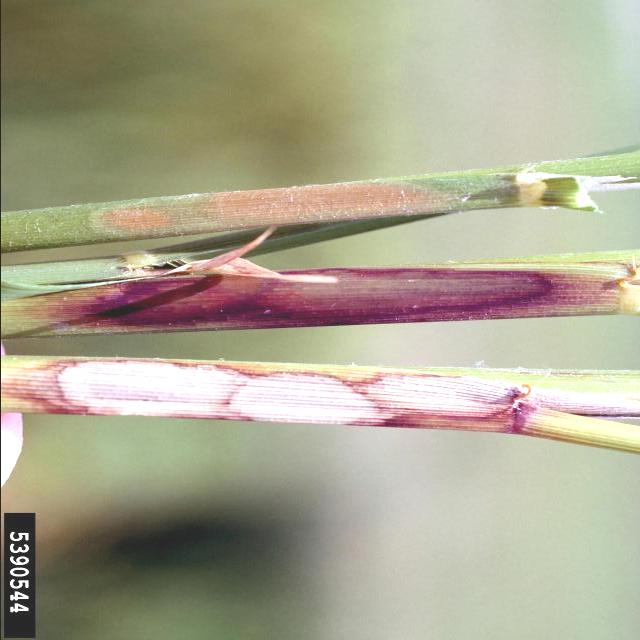Bacterial_Leaf_Blight: (0, 358, 640, 434), (38, 266, 640, 336), (86, 178, 452, 241)
